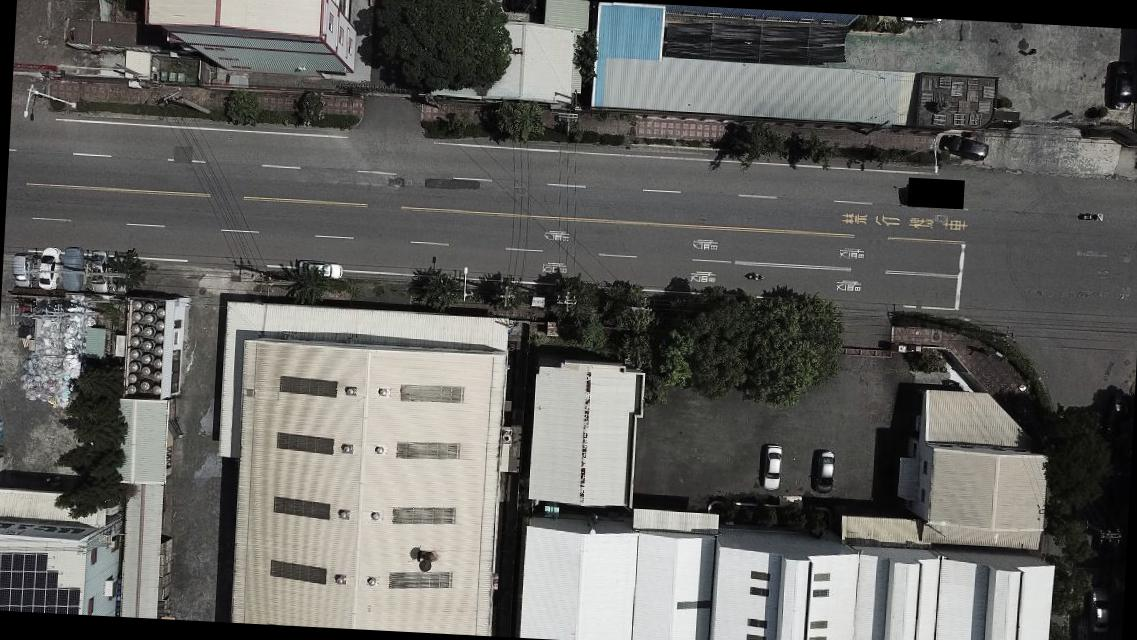vehicle: (1102, 64, 1134, 114), (940, 134, 991, 161), (759, 442, 783, 492), (812, 448, 835, 497), (38, 246, 62, 292), (1086, 590, 1110, 634), (296, 260, 342, 282), (9, 252, 35, 289), (109, 253, 128, 294), (89, 253, 108, 293)
